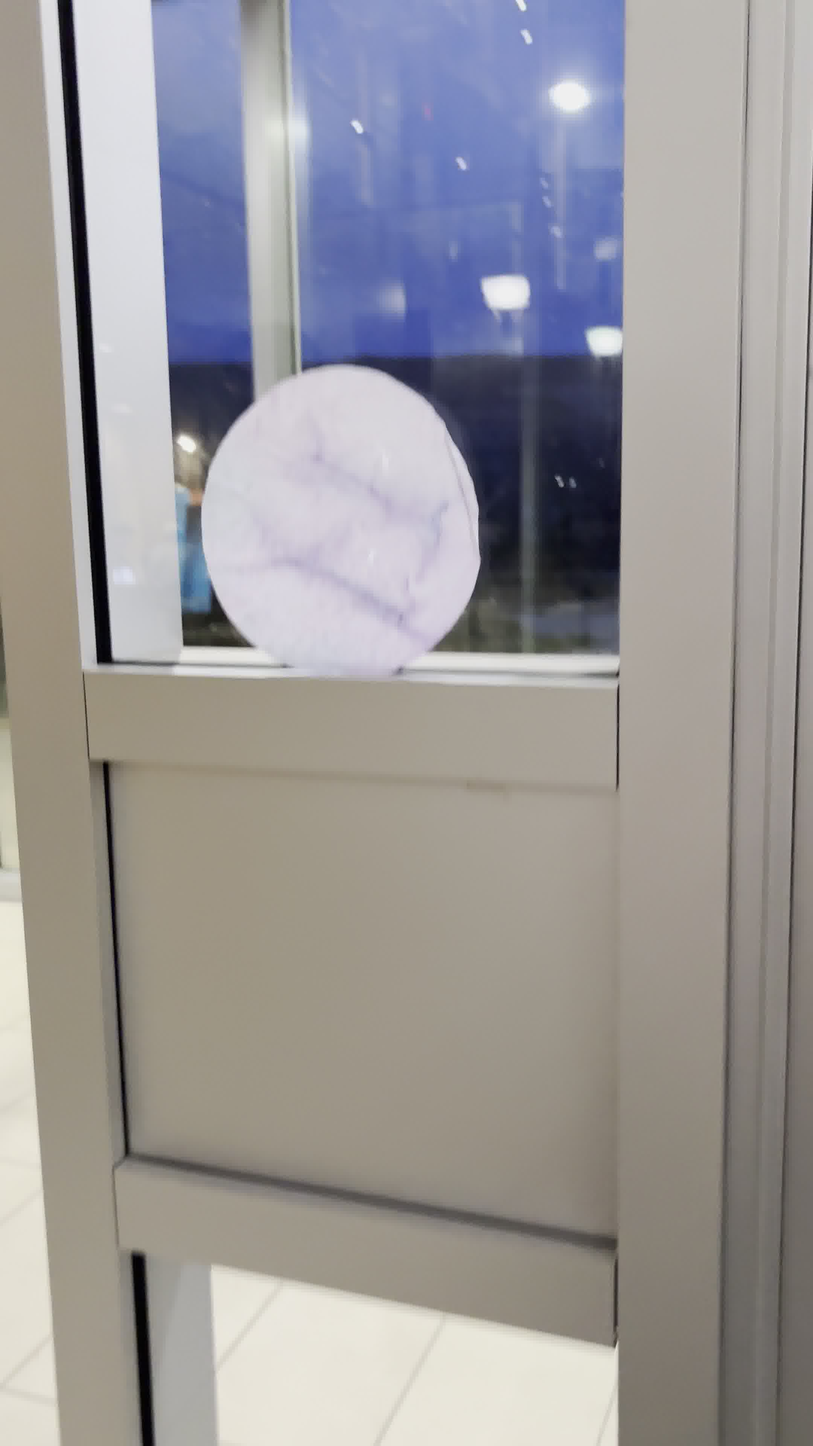Target: (199, 357, 485, 685)
